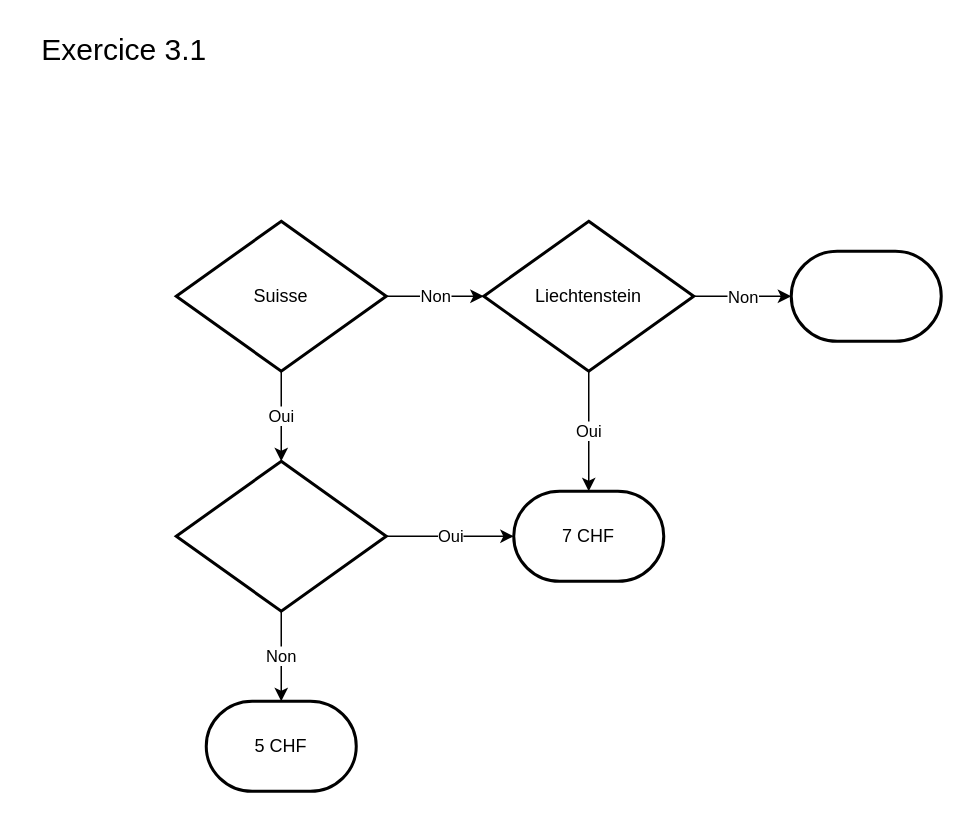
Some shapes in this 968 by 818 pixel diagram are drawn without their labels. Each missing label, with the centre of its shape:
"10 CHF" goes at pixel 865 295.
"Grisons ou tessin" goes at pixel 280 535.
